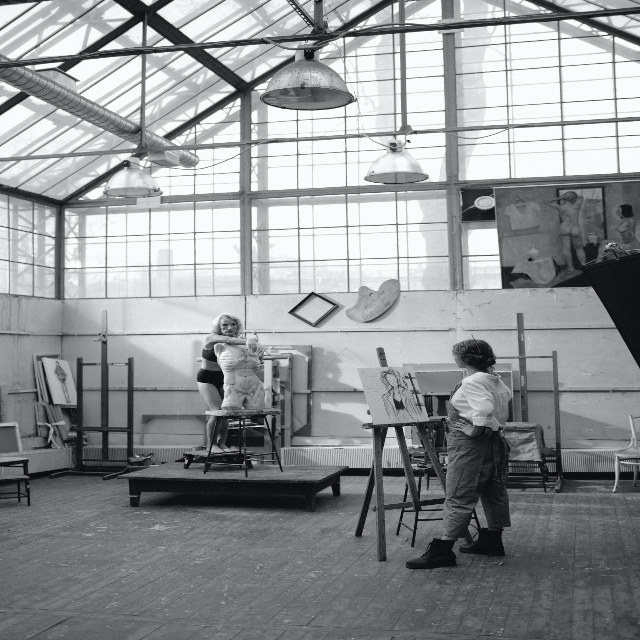Sin_guantes: (454, 418, 475, 437), (244, 337, 257, 352), (255, 341, 264, 356)
